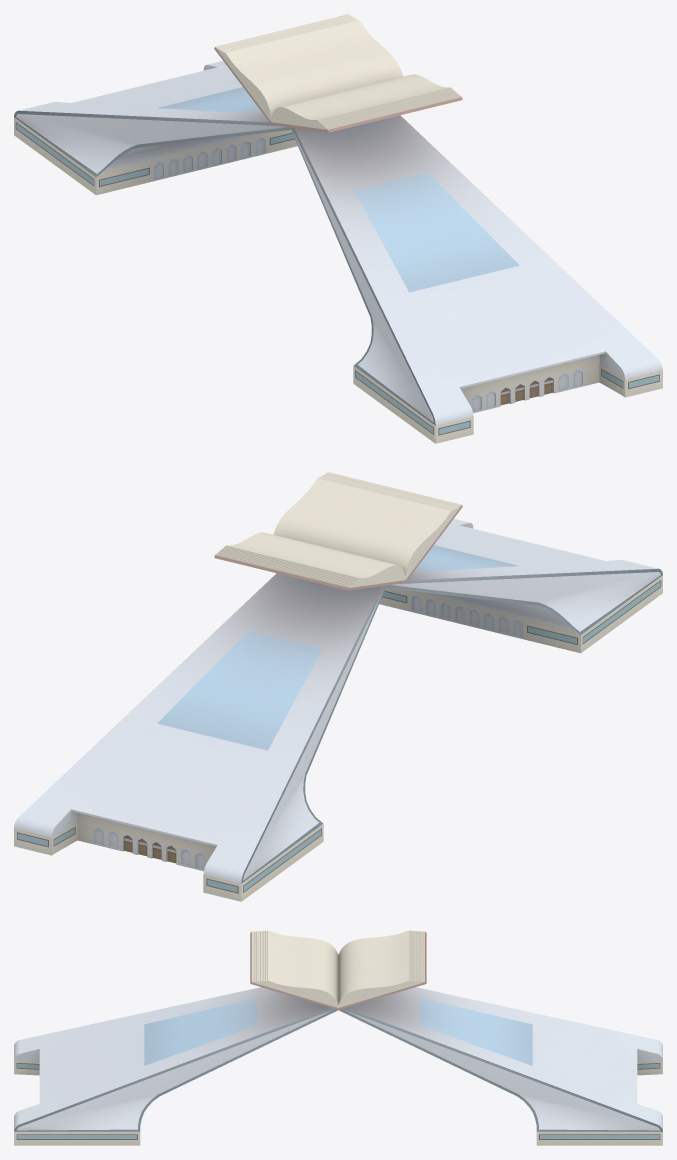
The picture shows the model from 3 angles, top to bottom: view 1: azimuth 30°, elevation 25°; view 2: azimuth 150°, elevation 25°; view 3: azimuth 270°, elevation 25°; orthographic projection. The views are drawn at different scales.
Parts seen in each view (by area): view 1: holy_gates_baked; view 2: holy_gates_baked; view 3: holy_gates_baked.
Part boxes in pixels (bbox=[...]): holy_gates_baked: bbox=[14, 14, 662, 443]; holy_gates_baked: bbox=[14, 472, 662, 901]; holy_gates_baked: bbox=[14, 930, 662, 1145].
Size of the model in its own units: 47.97 by 38.61 by 154.
Materials: 1 (1 with a texture image).
